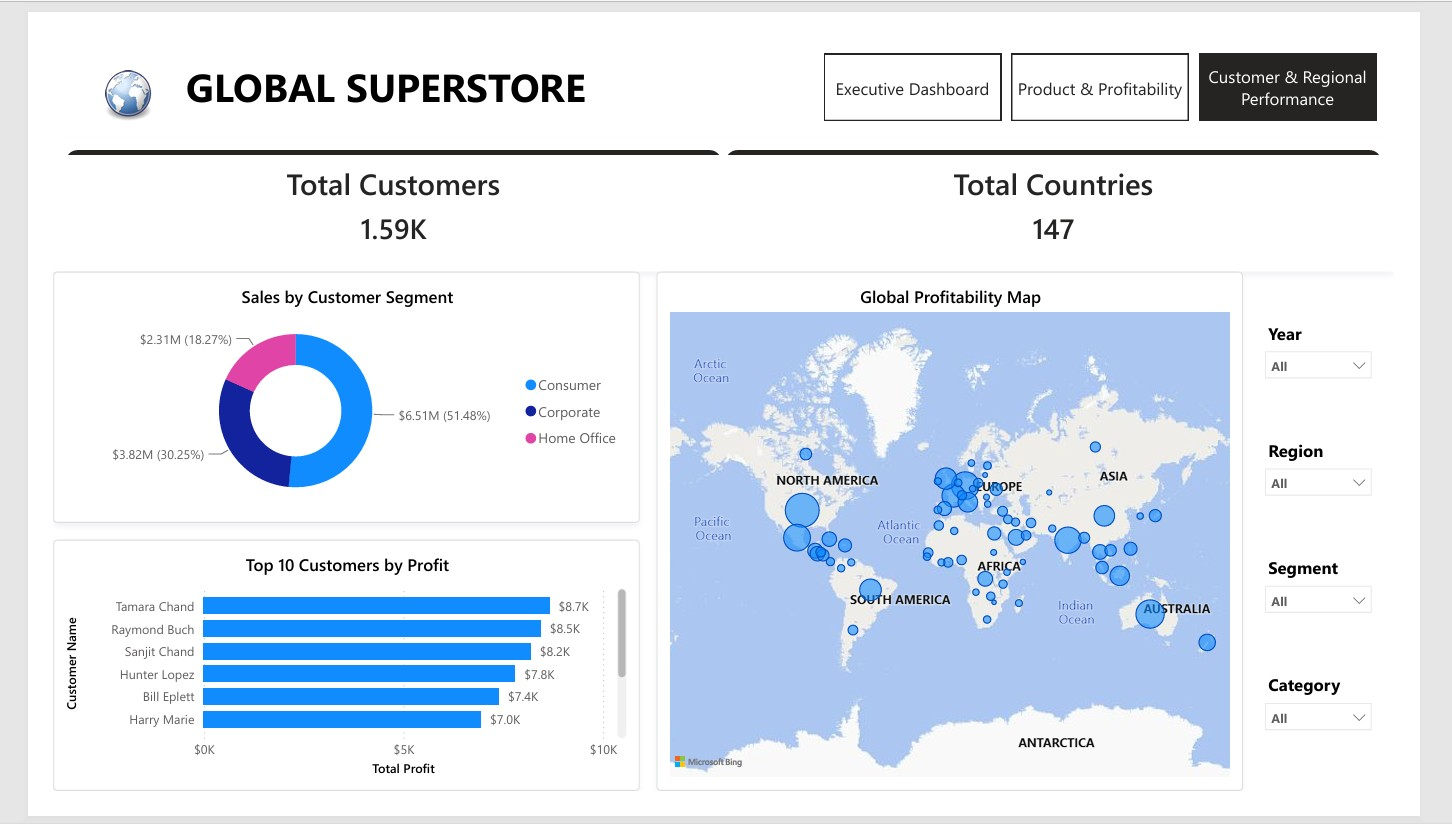

The dashboard page shown, as its layout file describes it:
{"tool":"powerbi","page":{"name":"Customer & Regional Performance","canvas":[1280,720],"ordinal":2},"visuals":[{"type":"cardVisual","fields":{"Data":["Count(Global Superstore.Customer ID)","Count(Global Superstore.Country)"]},"box":[0,96,1280,128],"z":0},{"type":"slicer","fields":{"Values":["Global_Superstore2.Order Date.Variation.Date Hierarchy.Year"]},"box":[1152,272,112,64],"z":1000},{"type":"donutChart","title":" Sales by Customer Segment","fields":{"Y":["Global Superstore.Total Sales"],"Category":["Global Superstore.Segment"]},"box":[0,224,560,240],"z":2000},{"type":"textbox","box":[0,0,656,80],"z":3000},{"type":"slicer","fields":{"Values":["Global_Superstore2.Region","Global_Superstore2.Country"]},"box":[1152,384,112,64],"z":4000},{"type":"barChart","title":"Top 10 Customers by Profit","fields":{"Category":["Global Superstore.Customer Name"],"Y":["Global Superstore.Total Profit"]},"box":[0,480,560,240],"z":5000},{"type":"map","title":"Global Profitability Map ","fields":{"Category":["Global Superstore.Country"],"Size":["Global Superstore.Total Sales"]},"box":[576,224,560,496],"z":6000},{"type":"image","box":[32,32,80,48],"z":7000},{"type":"pageNavigator","box":[736,16,528,64],"z":8000},{"type":"slicer","fields":{"Values":["Global Superstore.Segment"]},"box":[1152,496,112,64],"z":9000},{"type":"slicer","fields":{"Values":["Global Superstore.Category"]},"box":[1152,608,112,64],"z":10000}]}

Visuals, with their boxes in screenshot pixels (x1, y1, x2, y2), scaled from the page's 1280x720 canvas onto the 1452x826 screenshot:
cardVisual - Count(Global Superstore.Customer ID) x Count(Global Superstore.Country): <bbox>0, 110, 1451, 257</bbox>
slicer - Global_Superstore2.Order Date.Variation.Date Hierarchy.Year: <bbox>1307, 312, 1434, 385</bbox>
" Sales by Customer Segment" donutChart: <bbox>0, 257, 635, 532</bbox>
textbox: <bbox>0, 0, 744, 92</bbox>
slicer - Global_Superstore2.Region x Global_Superstore2.Country: <bbox>1307, 441, 1434, 514</bbox>
"Top 10 Customers by Profit" barChart: <bbox>0, 551, 635, 825</bbox>
"Global Profitability Map " map: <bbox>653, 257, 1289, 825</bbox>
image: <bbox>36, 37, 127, 92</bbox>
pageNavigator: <bbox>835, 18, 1434, 92</bbox>
slicer - Global Superstore.Segment: <bbox>1307, 569, 1434, 642</bbox>
slicer - Global Superstore.Category: <bbox>1307, 698, 1434, 771</bbox>
